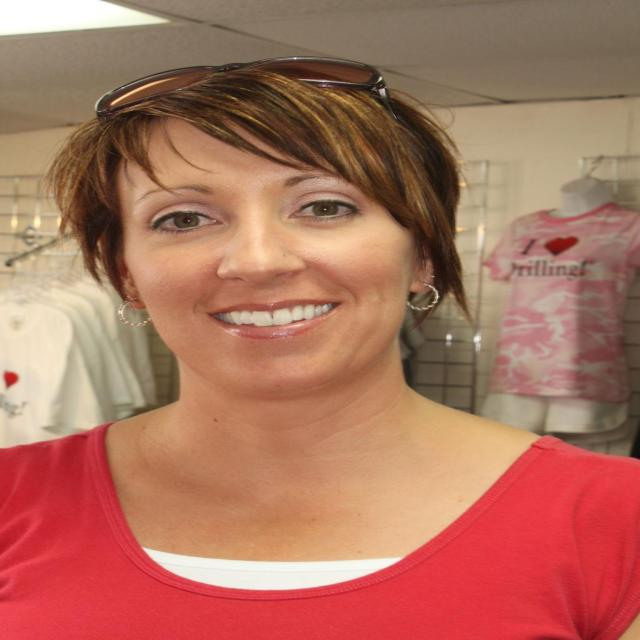Face: (72, 111, 429, 397)
